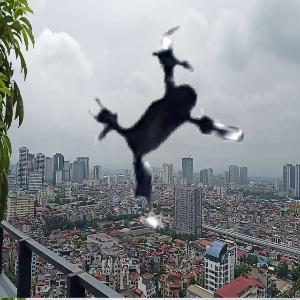drone: (63, 16, 294, 247)
